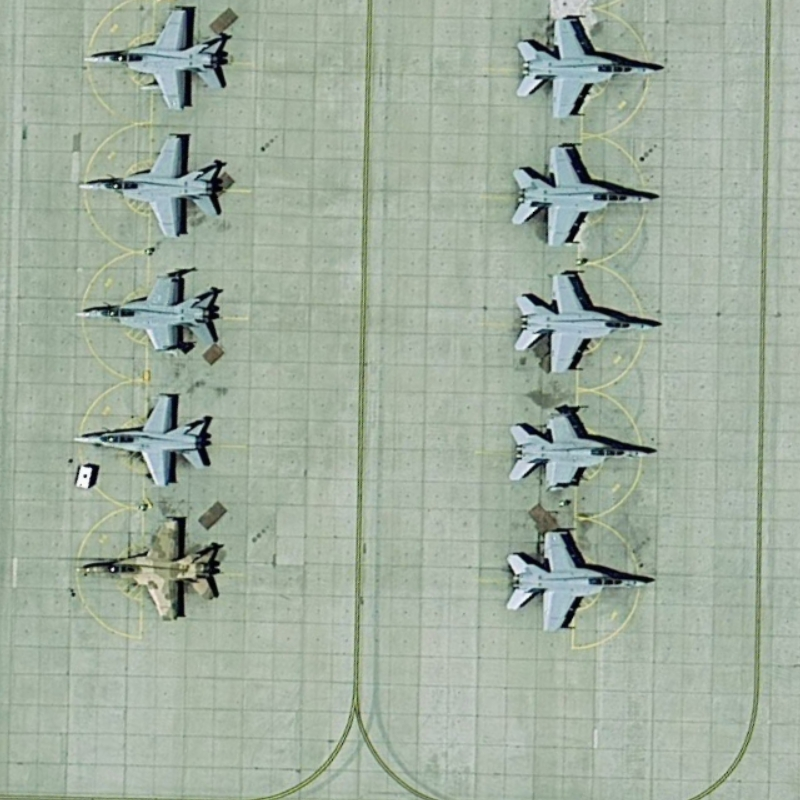A16: (499, 526, 660, 638), (508, 268, 668, 379), (70, 515, 226, 626), (508, 13, 663, 124), (507, 140, 658, 250), (75, 131, 224, 241), (81, 7, 231, 115), (69, 391, 214, 490), (69, 267, 223, 357), (504, 409, 661, 497)
